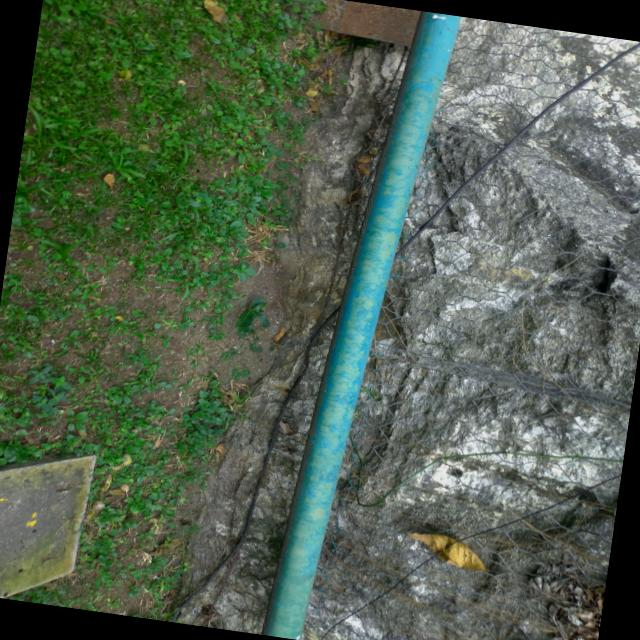gas: (267, 12, 462, 640)
